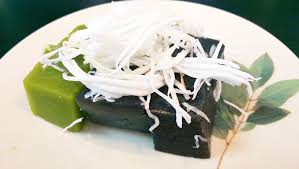kanompiakpoon: (24, 13, 234, 164)
